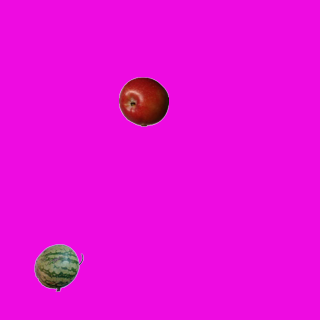Apple Braeburn: (118, 76, 168, 126)
Watermelon: (33, 242, 83, 292)
